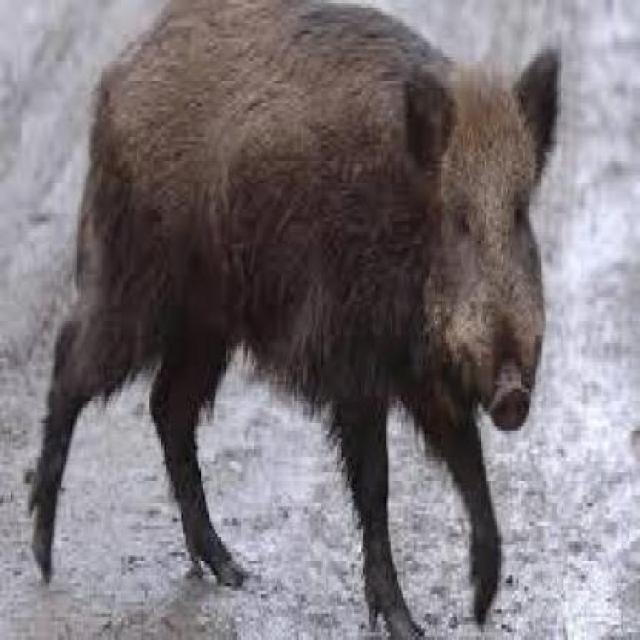wildboar: (23, 0, 568, 640)
